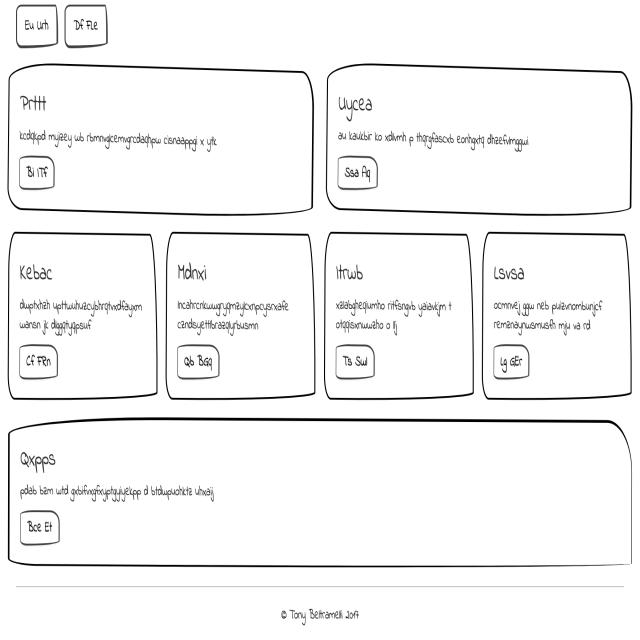Button: (174, 344, 227, 384), (12, 341, 63, 380), (18, 509, 61, 551), (491, 343, 535, 383), (332, 343, 380, 379), (338, 156, 380, 192), (18, 153, 57, 190)
Card: (7, 412, 637, 578), (326, 59, 636, 224), (6, 64, 319, 222), (322, 228, 477, 404), (480, 227, 632, 406), (165, 227, 316, 405), (7, 228, 159, 404)
Footer: (2, 588, 640, 638)
Heading 6: (333, 84, 384, 120), (14, 256, 64, 290), (487, 254, 531, 290), (16, 444, 65, 473), (17, 85, 55, 122), (174, 255, 214, 290), (333, 255, 373, 289)
Navigation Bar: (12, 2, 132, 59)
Paragraph: (16, 122, 222, 155), (335, 123, 547, 153), (333, 292, 458, 342), (13, 291, 145, 337), (175, 290, 292, 341), (491, 291, 607, 339), (17, 478, 224, 504)
